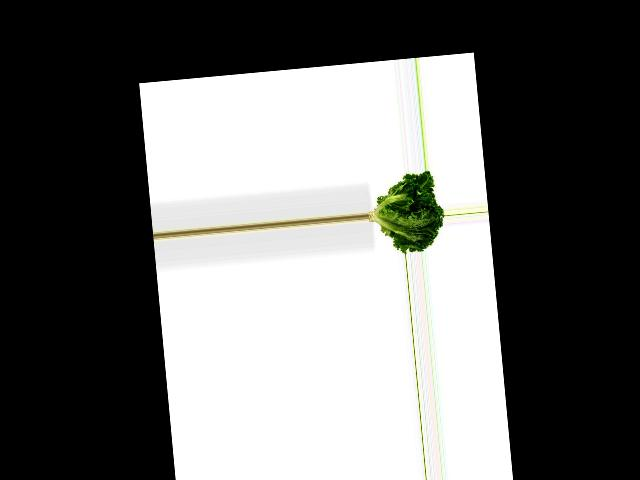lettuce: (364, 170, 446, 256)
